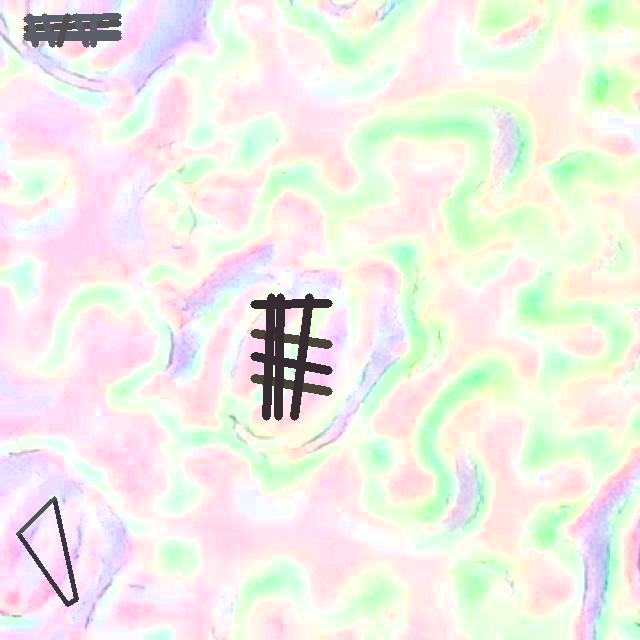open: (250, 293, 332, 420), (16, 497, 77, 606), (23, 13, 121, 47)
